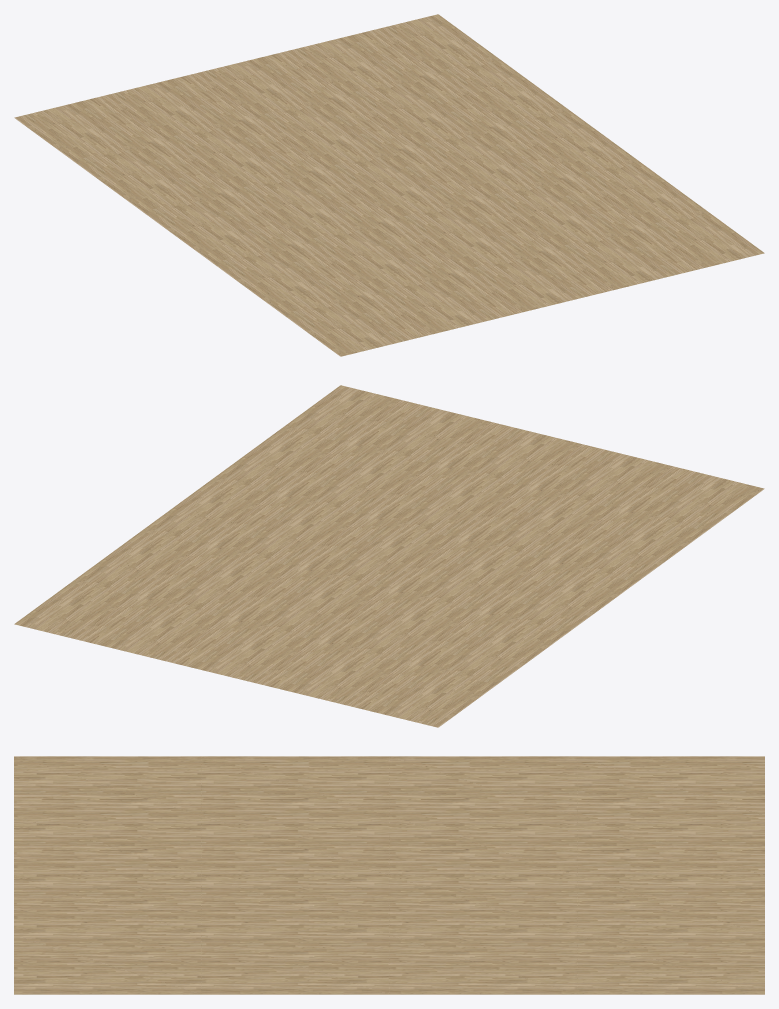
File: floor.FBX
The picture shows the model from 3 angles, top to bottom: view 1: azimuth 30°, elevation 25°; view 2: azimuth 150°, elevation 25°; view 3: azimuth 270°, elevation 25°; orthographic projection. The views are drawn at different scales.
Parts seen in each view (by area): view 1: Floor; view 2: Floor; view 3: Floor.
Part boxes in pixels (x1,y1,x2,y2): Floor: (14,14,764,356); Floor: (14,385,764,727); Floor: (14,756,764,994).
Size of the model in its own units: 273 by 2.23e-14 by 364.
1 material, 1 textured.
